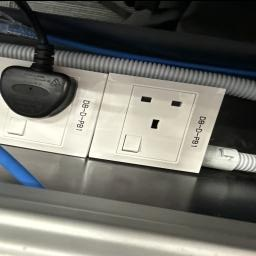outlet: (105, 72, 217, 174), (0, 53, 92, 164)
